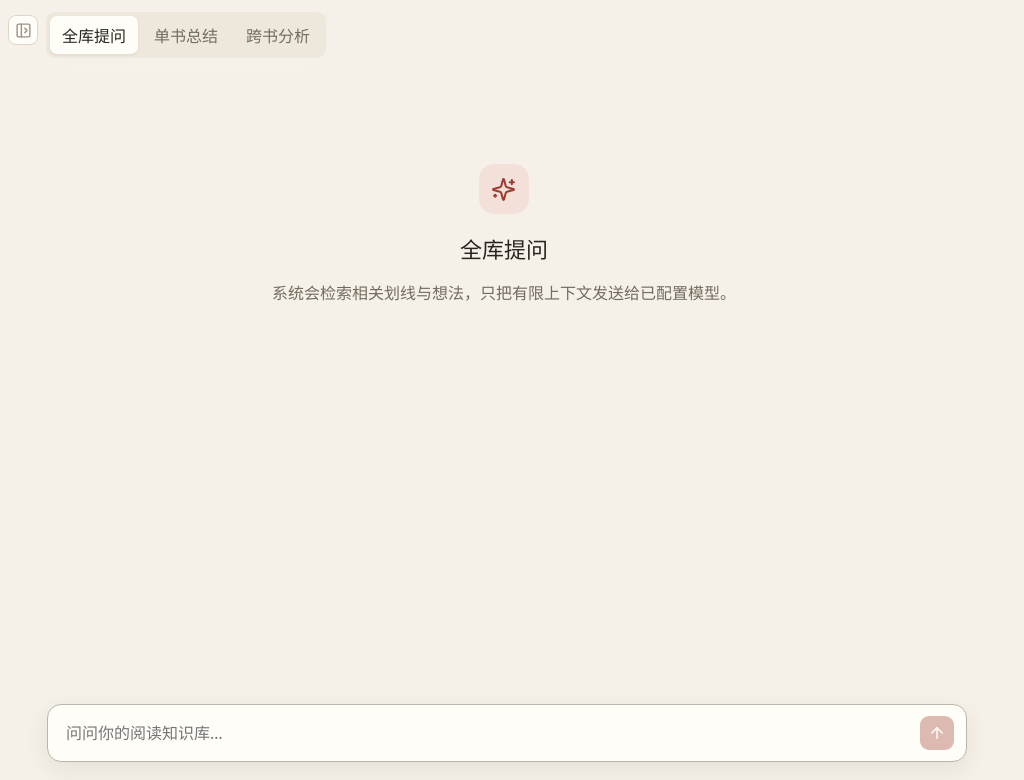
it: AI 流式回答 › 点击停止后通知后端取消，并且不再追加内容
Type "停止测试" into the text box with placeholder "问问你的阅读知识库…" at (486, 734), box [64,718,908,750]
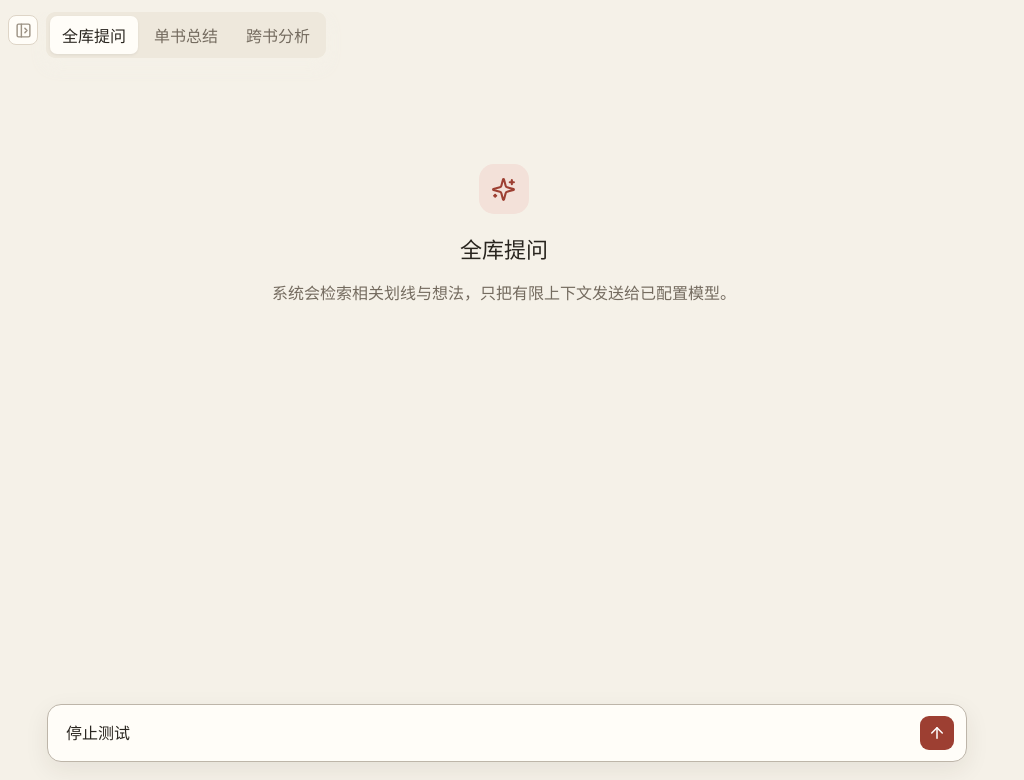
Click the button named "发送" at (937, 733), box [920,716,954,750]
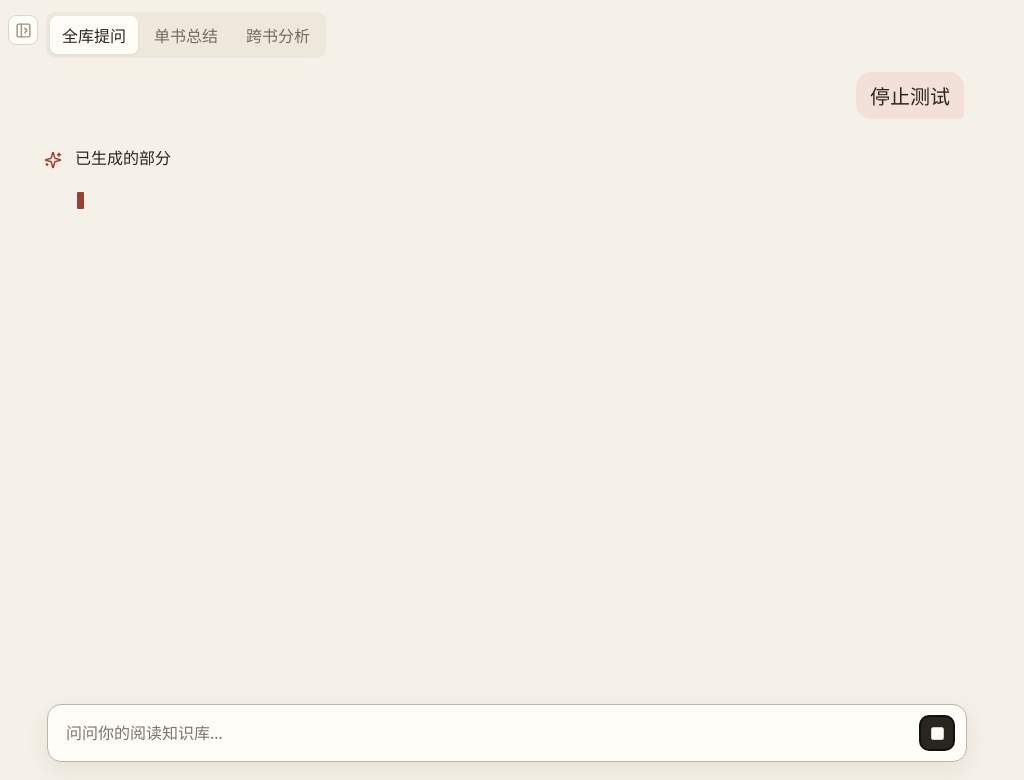
Click the button named "停止生成" at (937, 733), box [920,716,954,750]
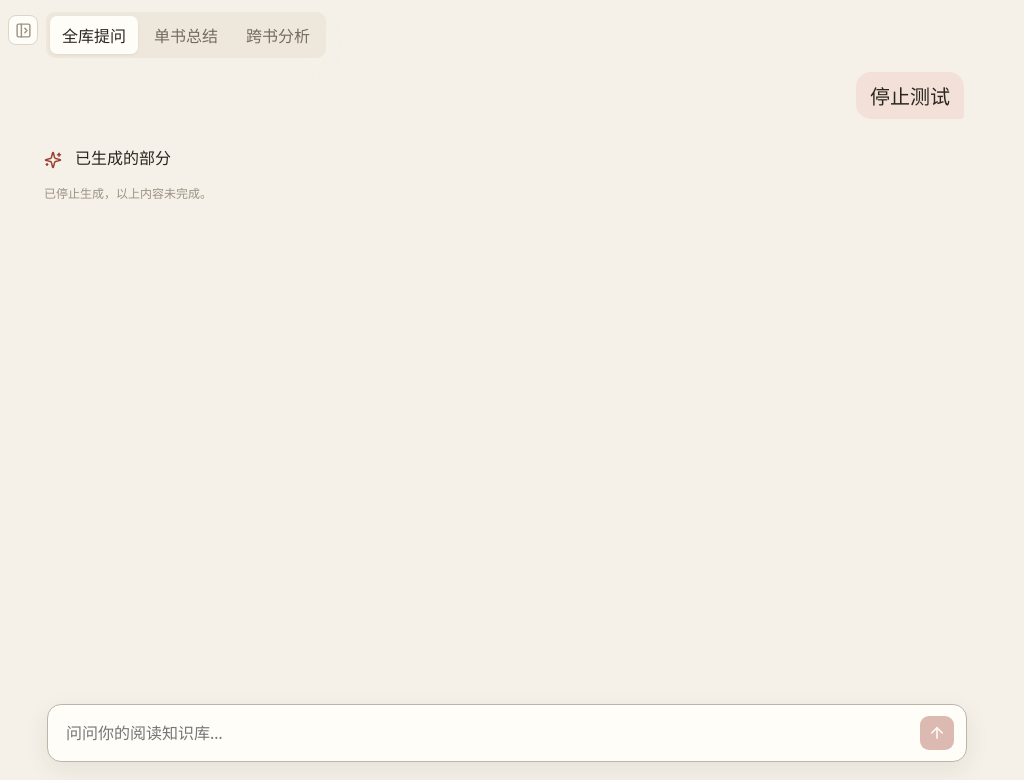
Expected: the text "已停止生成，以上内容未完成。" is shown, [44,185,212,202]
